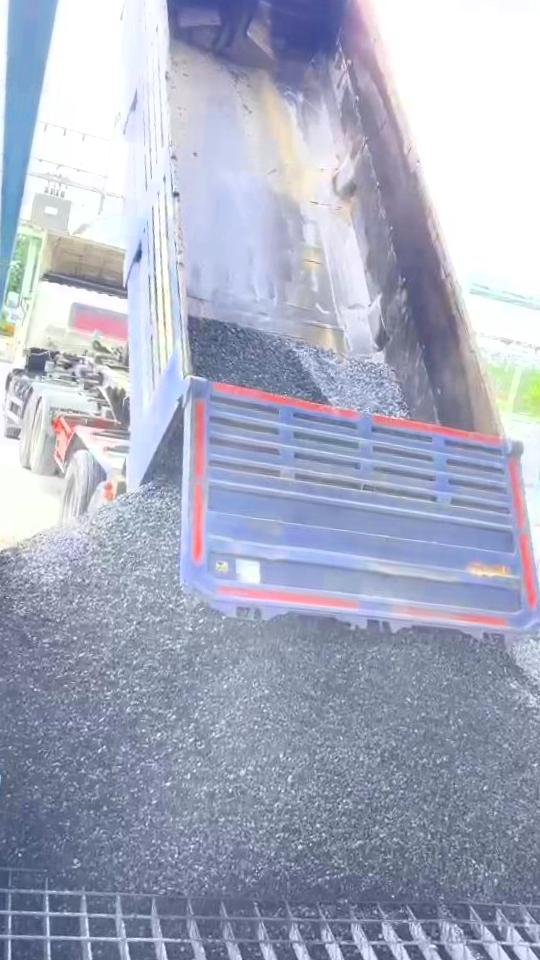gravel: (0, 474, 540, 901), (188, 318, 409, 416), (512, 619, 540, 753)
